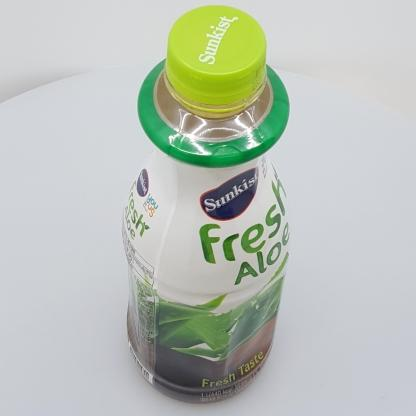----------1L: (122, 5, 290, 404)
